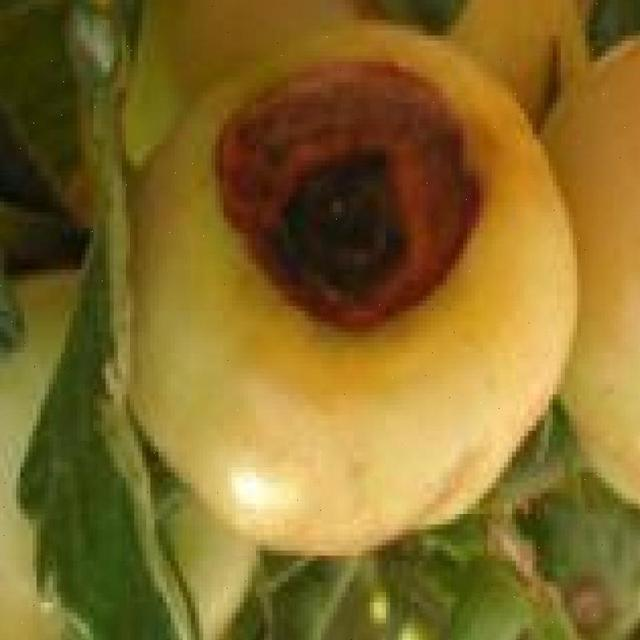Blossom End Rot Fruit: (138, 37, 317, 225)
